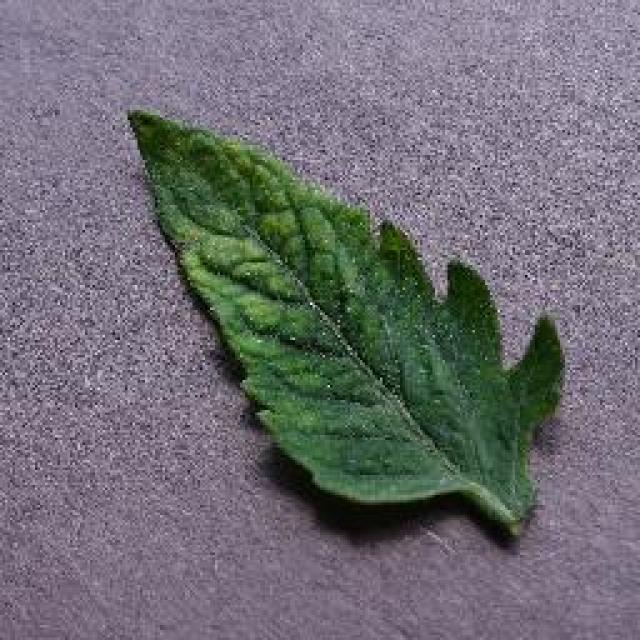Tomato spider mites leaf: (125, 106, 573, 519)
